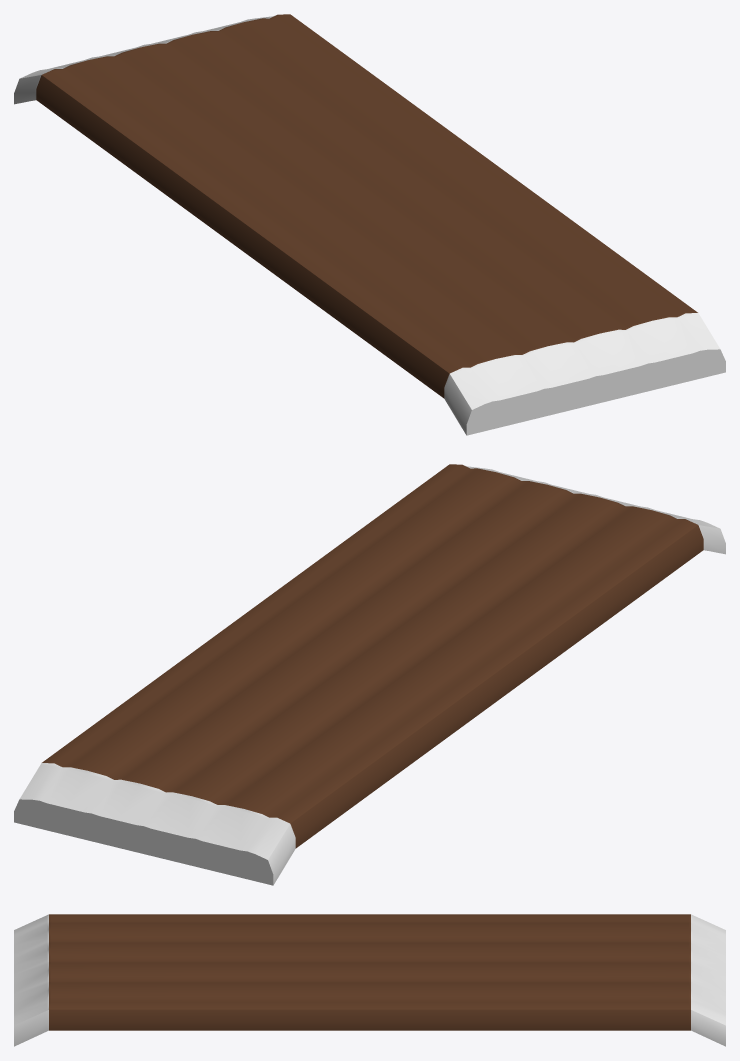
File: Bridge_Logs.fbx
3 views of the same model, one above another, from view 1: azimuth 30°, elevation 25°; view 2: azimuth 150°, elevation 25°; view 3: azimuth 270°, elevation 25° (orthographic). The views are drawn at different scales.
Visible parts, largest first — view 1: Bridge_Logs; view 2: Bridge_Logs; view 3: Bridge_Logs.
Boxes of the visible parts, <box> form: Bridge_Logs: <box>14,14,725,435</box>; Bridge_Logs: <box>14,464,725,885</box>; Bridge_Logs: <box>14,914,725,1046</box>.
Size of the model in its own units: 333 by 60.12 by 1006.
